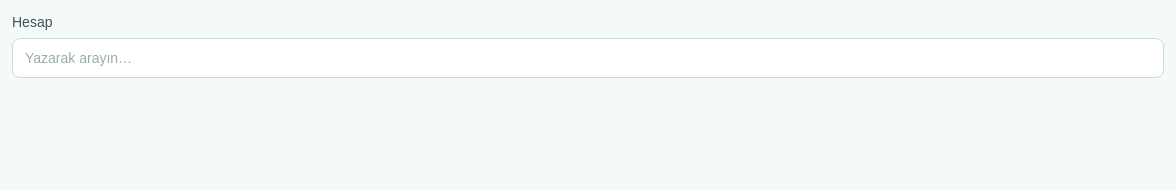
Test case: aranabilir seçici — sunucu kipi › YARIŞ KORUMASI: geç dönen eski istek yeni sonucu EZMİYOR
Type "eski" into the dropdown labelled "Hesap".
click(588, 58); type("eski")  # box x1=12 y1=38 x2=1164 y2=78
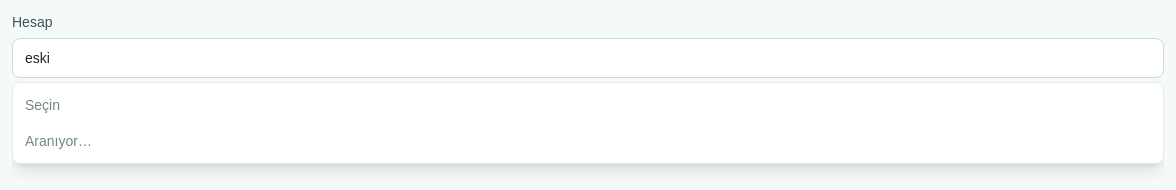
Replace the text in the dropdown labelled "Hesap" with "yeni" at (588, 58), box x1=12 y1=38 x2=1164 y2=78
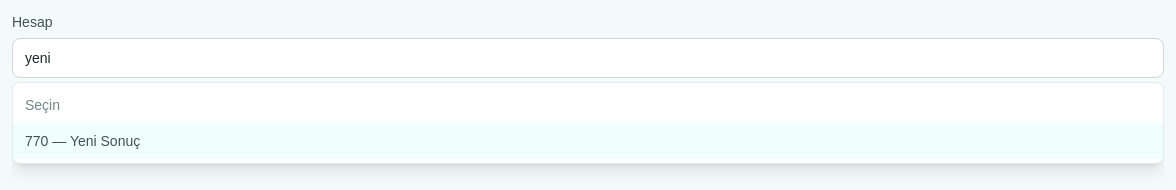
Expected: the text "770 — Yeni Sonuç" is shown, x1=25 y1=133 x2=140 y2=149
